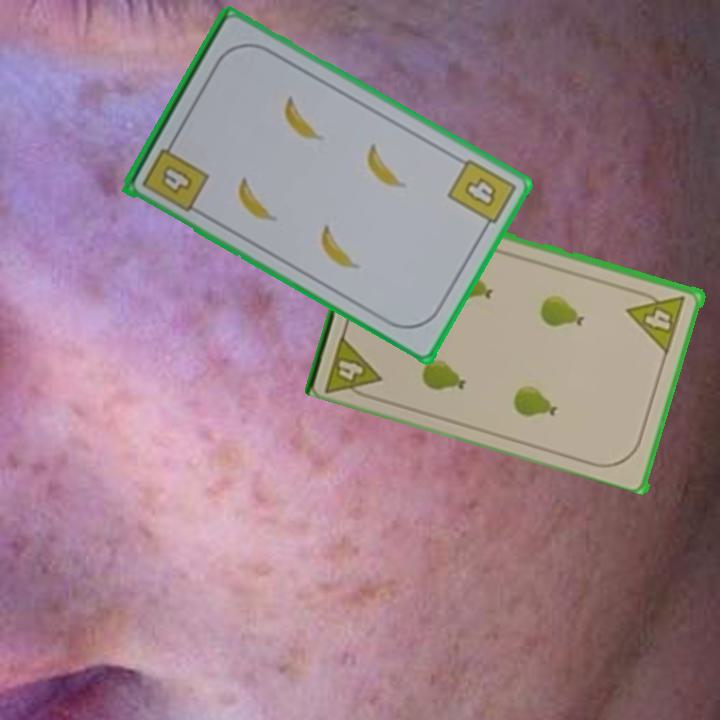4b: (444, 155, 519, 236), (138, 135, 212, 215)
4p: (321, 328, 386, 404), (625, 285, 689, 355)
